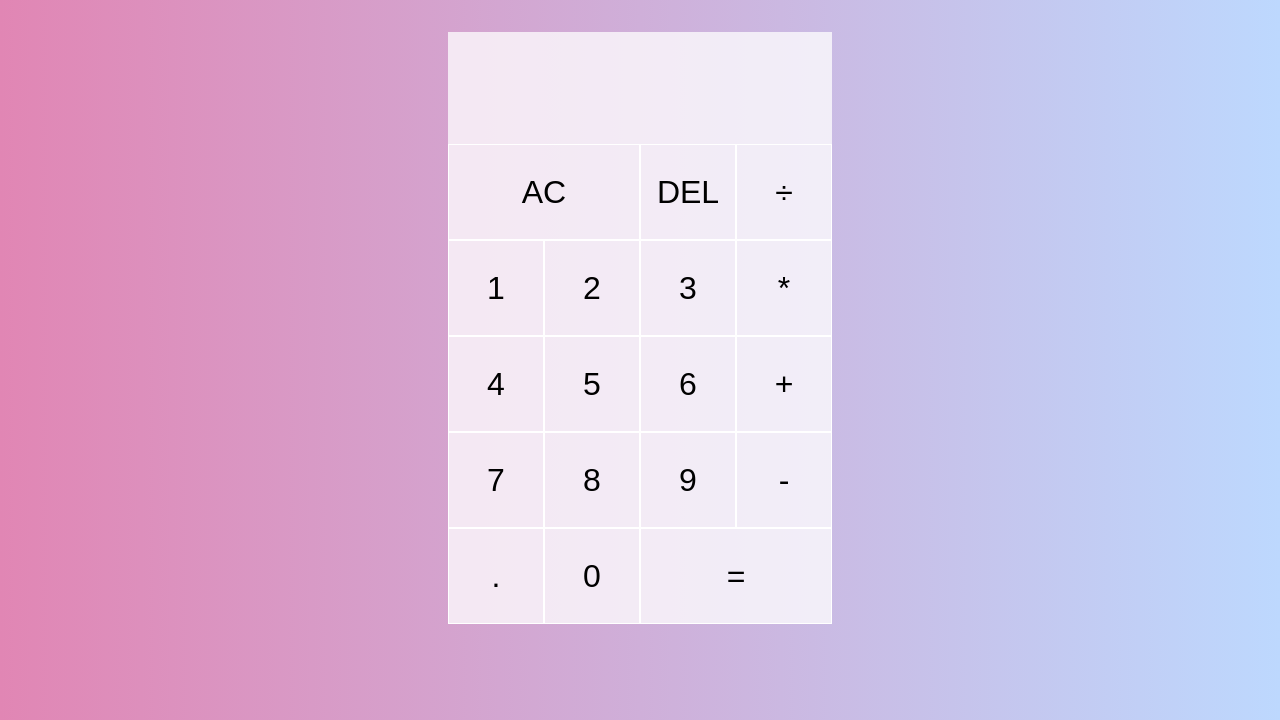
Test: calculator › should add two numbers
Click the button "1" at [496, 288], box [448, 240, 544, 336]
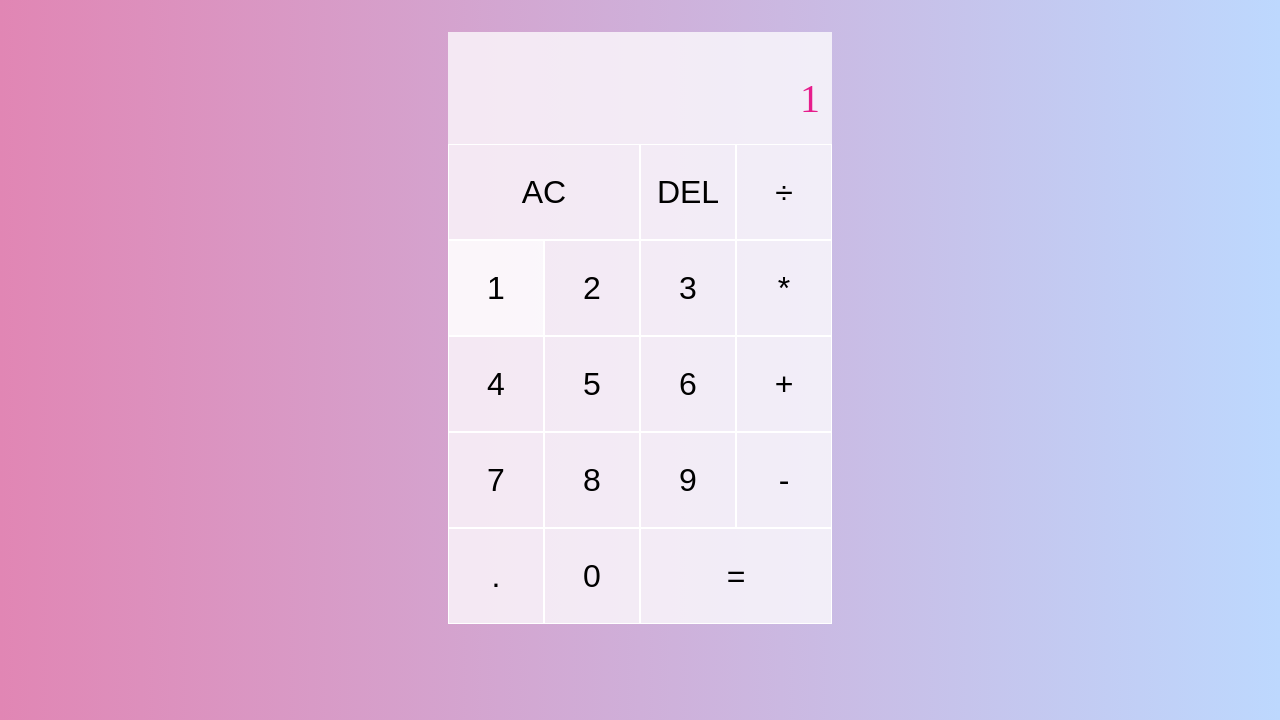
Click the button "+" at [784, 384], box [736, 336, 832, 432]
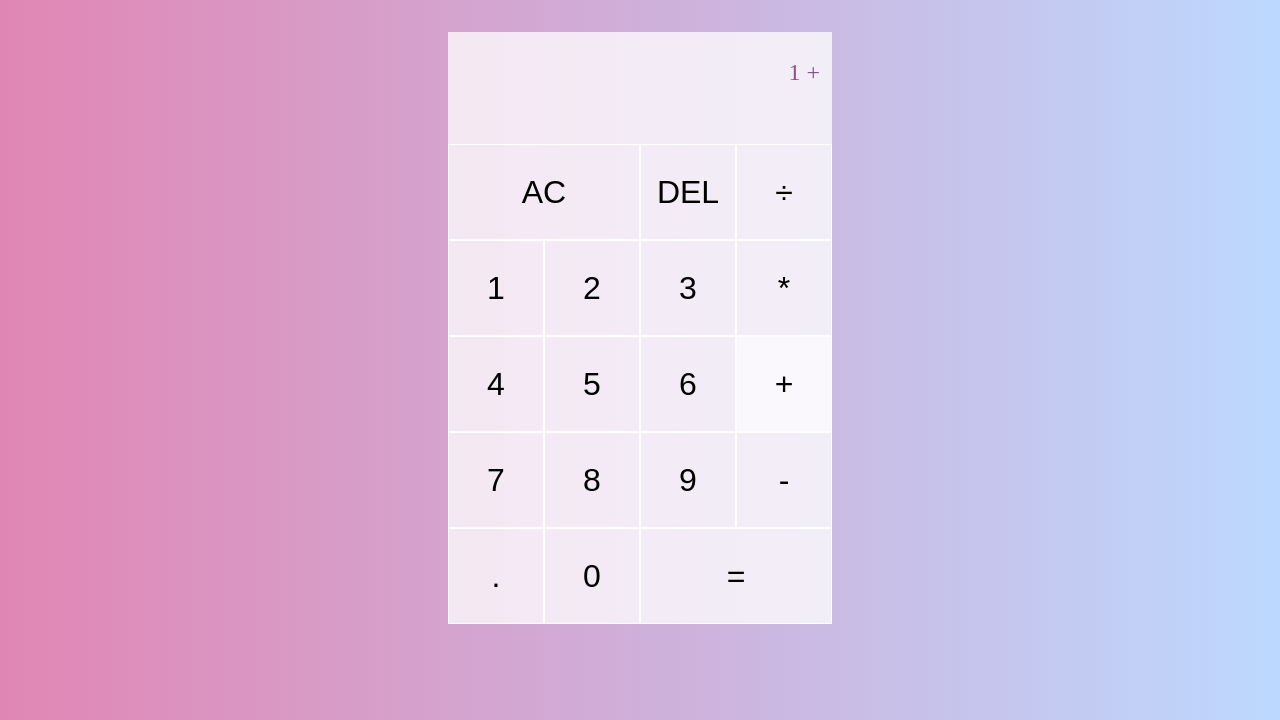
Click the button "2" at [592, 288], box [544, 240, 640, 336]
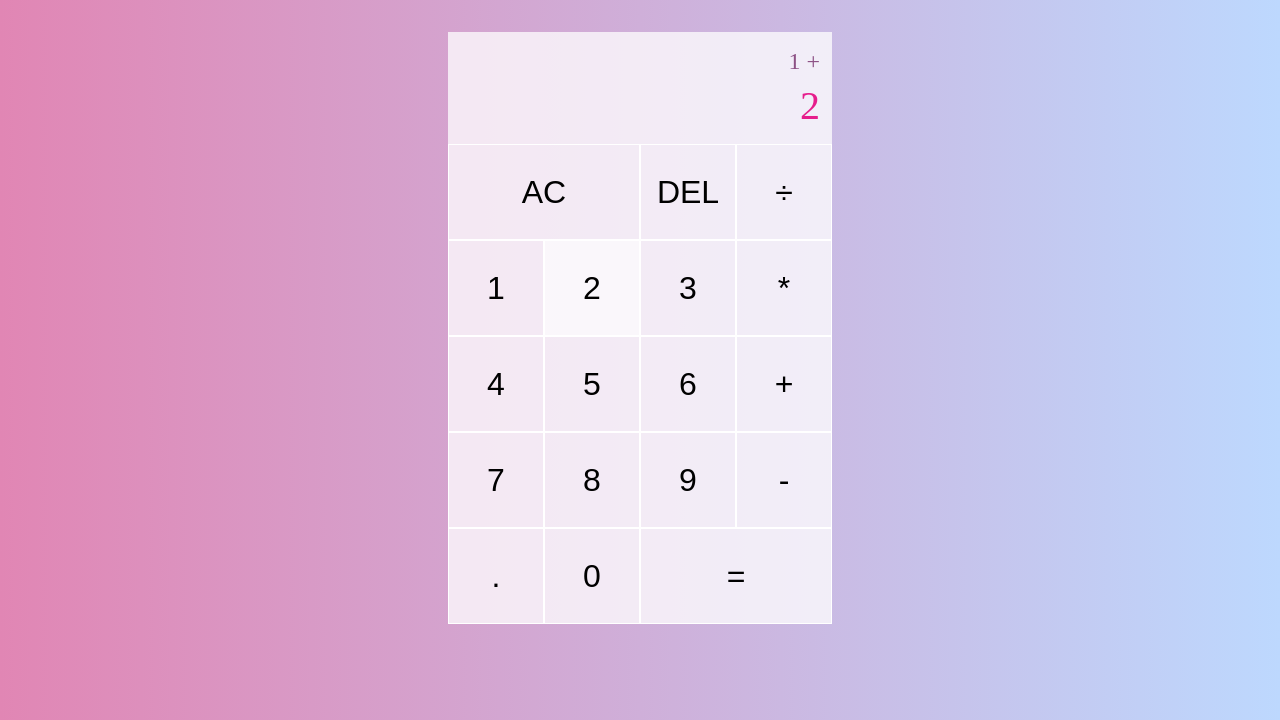
Click the button "=" at [736, 576], box [640, 528, 832, 624]
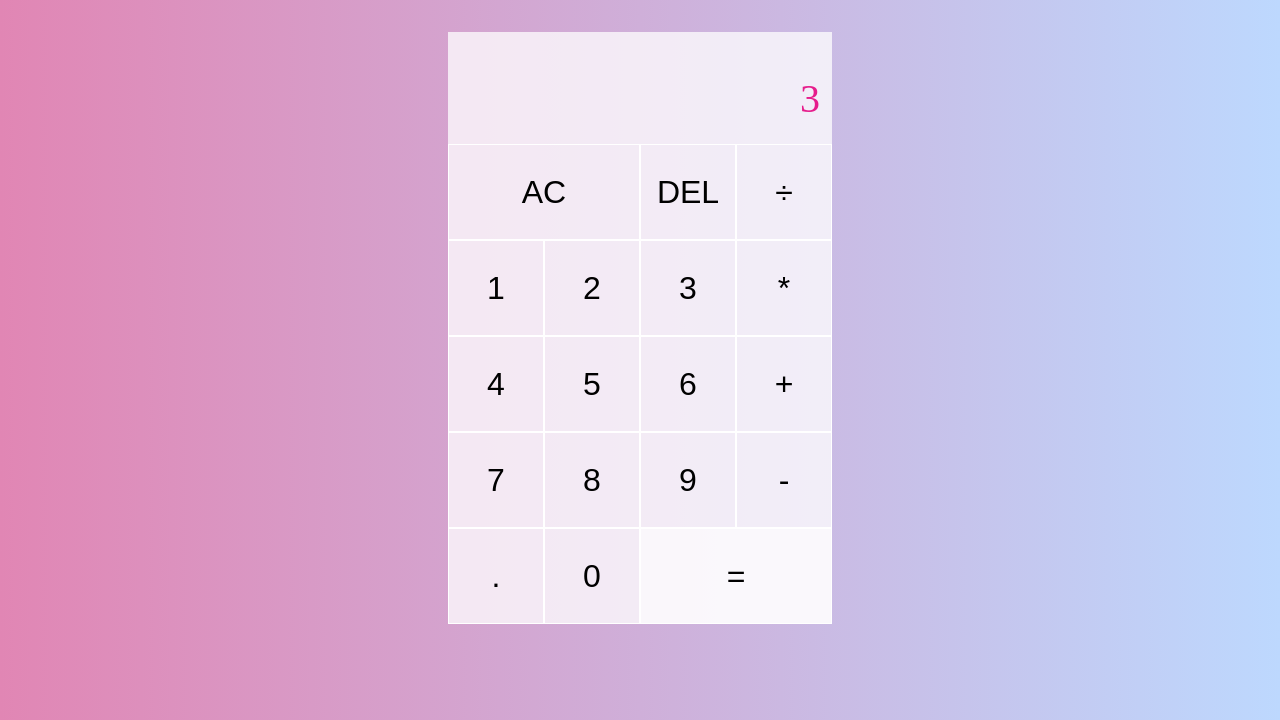
Now the text with id "current-operand" reads "3", box [800, 76, 820, 121]
